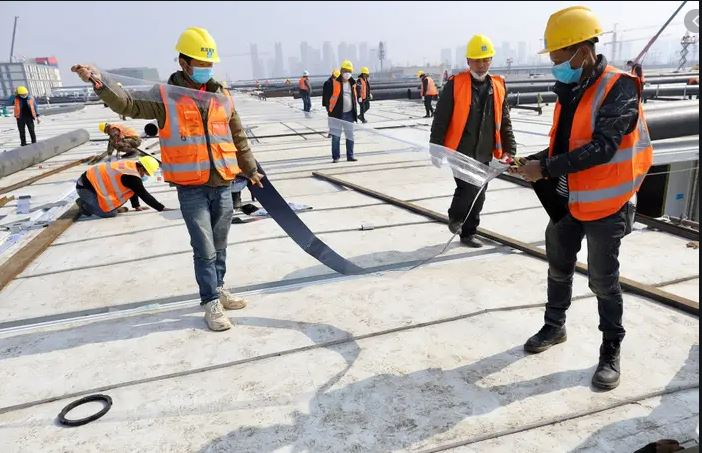Safety Helmet: (532, 4, 617, 98), (167, 15, 230, 98), (457, 24, 501, 92), (133, 149, 164, 192), (334, 51, 363, 93), (12, 81, 28, 103)
